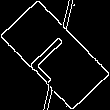L_NE: (26, 26, 84, 84)
